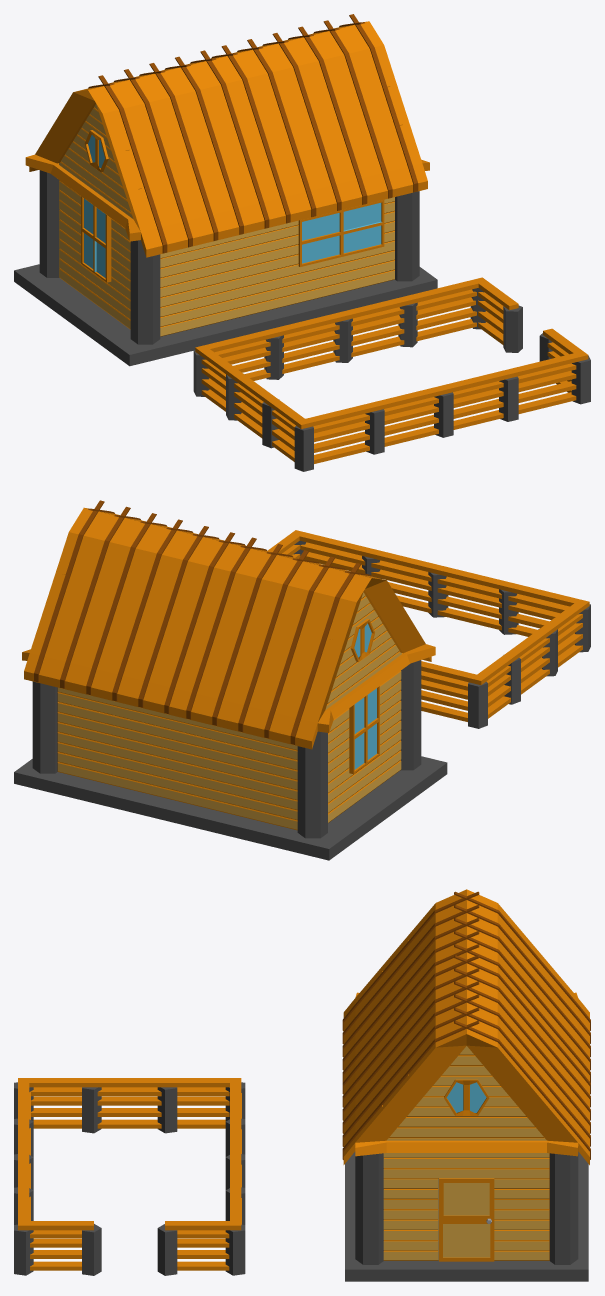
Rendered from Farm_second_level.fbx.
3 renders of one model, top to bottom at view 1: azimuth 30°, elevation 25°; view 2: azimuth 150°, elevation 25°; view 3: azimuth 270°, elevation 25°, orthographic. The views are drawn at different scales.
Parts seen in each view (by area): view 1: Cube, Cylinder, Cube.001, Cube.003, Cube.004, Cylinder.003; view 2: Cube, Cube.001, Cylinder, Cube.004, Cylinder.003; view 3: Cube, Cylinder, Cube.001, Cube.002, Cylinder.002.
Boxes of the visible parts, box(x1,y1,x2,y2) form: Cube: box(14, 14, 437, 366); Cylinder: box(193, 277, 590, 471); Cube.001: box(59, 86, 402, 336); Cube.003: box(298, 200, 384, 266); Cube.004: box(81, 196, 111, 282); Cylinder.003: box(84, 130, 108, 172); Cube: box(14, 500, 447, 860); Cube.001: box(57, 574, 401, 830); Cylinder: box(267, 530, 590, 728); Cube.004: box(349, 686, 379, 774); Cylinder.003: box(350, 619, 374, 661); Cube: box(342, 889, 590, 1281); Cylinder: box(14, 1078, 245, 1275); Cube.001: box(382, 940, 549, 1260); Cube.002: box(439, 1178, 494, 1261); Cylinder.002: box(444, 1079, 489, 1115).
Size of the model in its own units: 6654 by 4867 by 10247.
